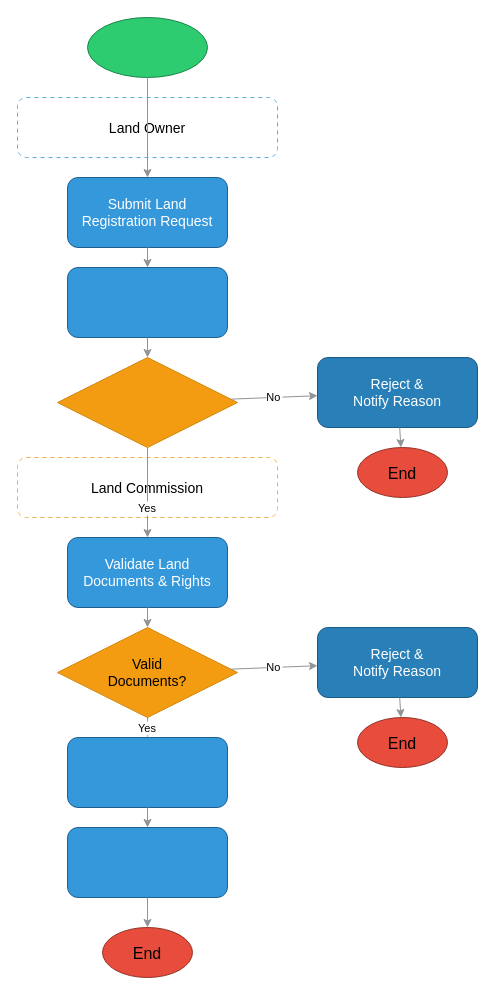
Some shapes in this 495 by 995 pixel diagram are drawn without their labels. Here are the shapes that lost their labels. From the top down, the centre of each, then its label:
(x=147, y=47): Start
(x=147, y=302): SSI Verification Process
(x=147, y=402): Identity Verified?
(x=147, y=772): Record on Blockchain
(x=147, y=862): Issue Digital Title Certificate
